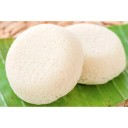idly: (5, 25, 82, 104), (66, 24, 127, 83)
